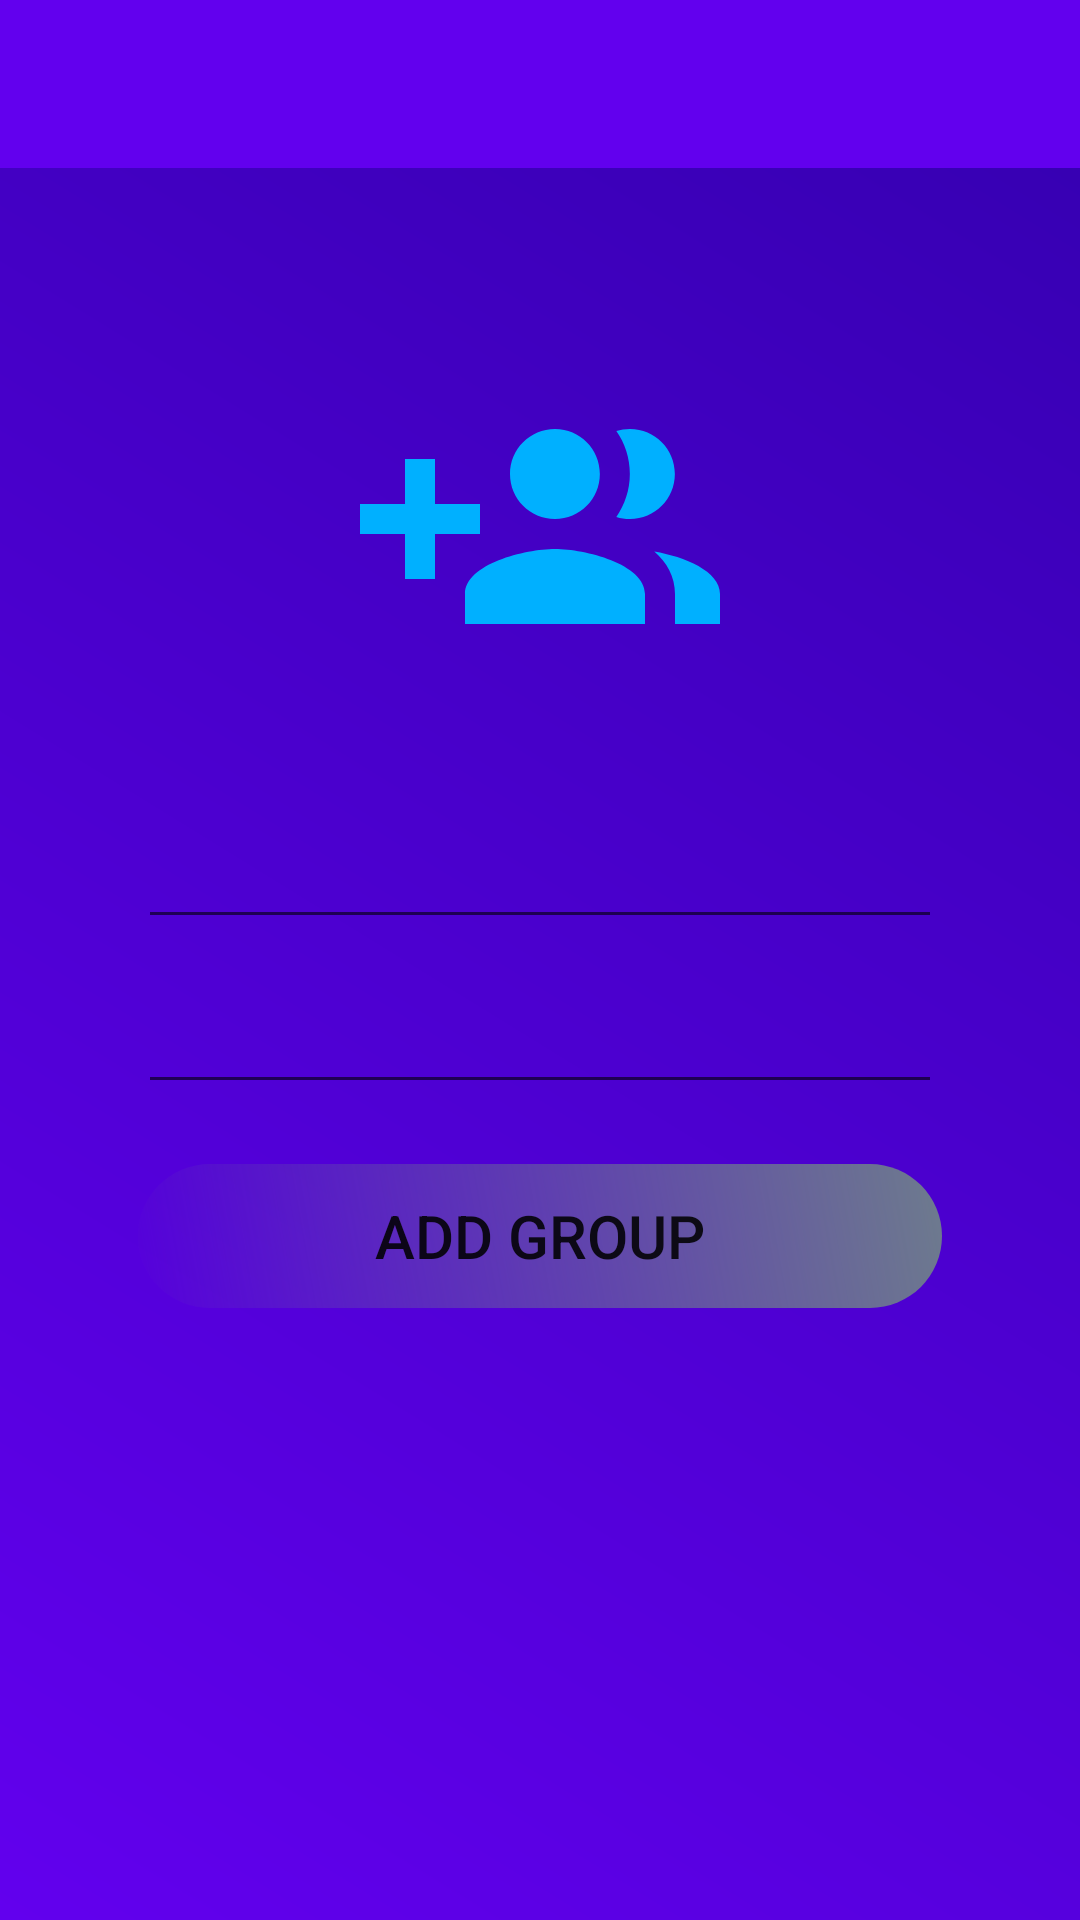

Named icons in this screenshot (1080 × 1920) and their centers, (x=x, y=y):
add group: (x=540, y=526)
